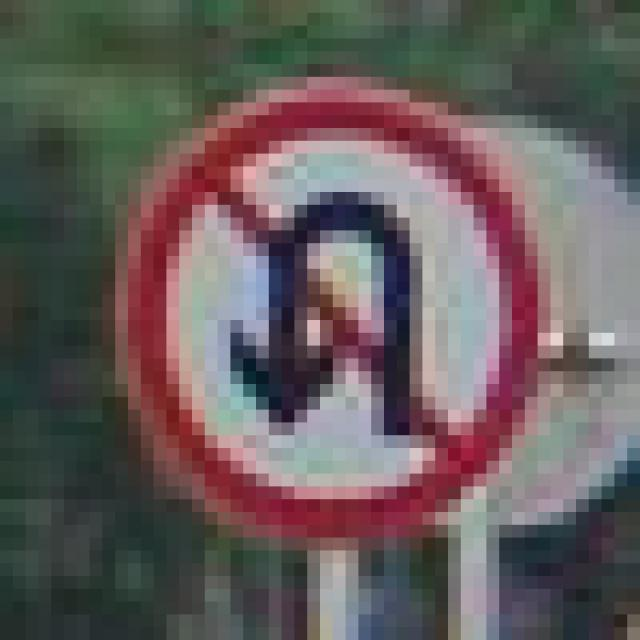U_TURN_PROHIBITED: (90, 64, 524, 538)
